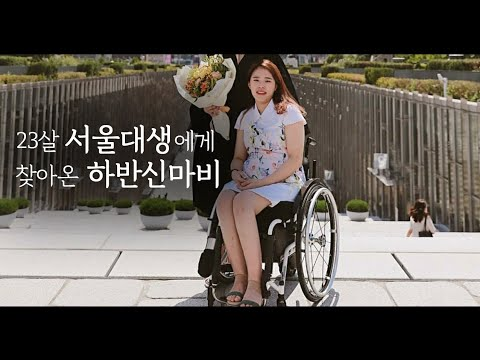wheelchair: (198, 58, 341, 307)
